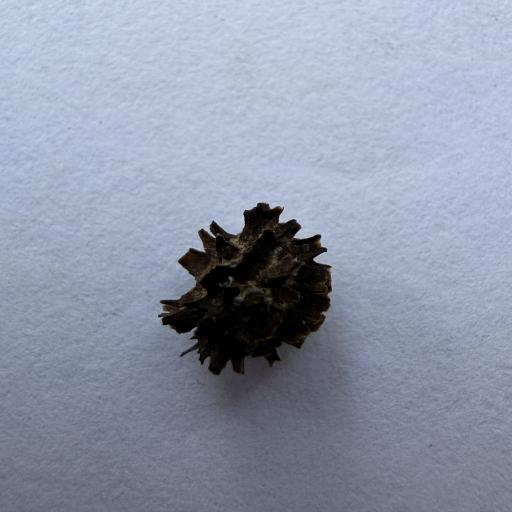papaya_seed: (124, 181, 352, 388)
